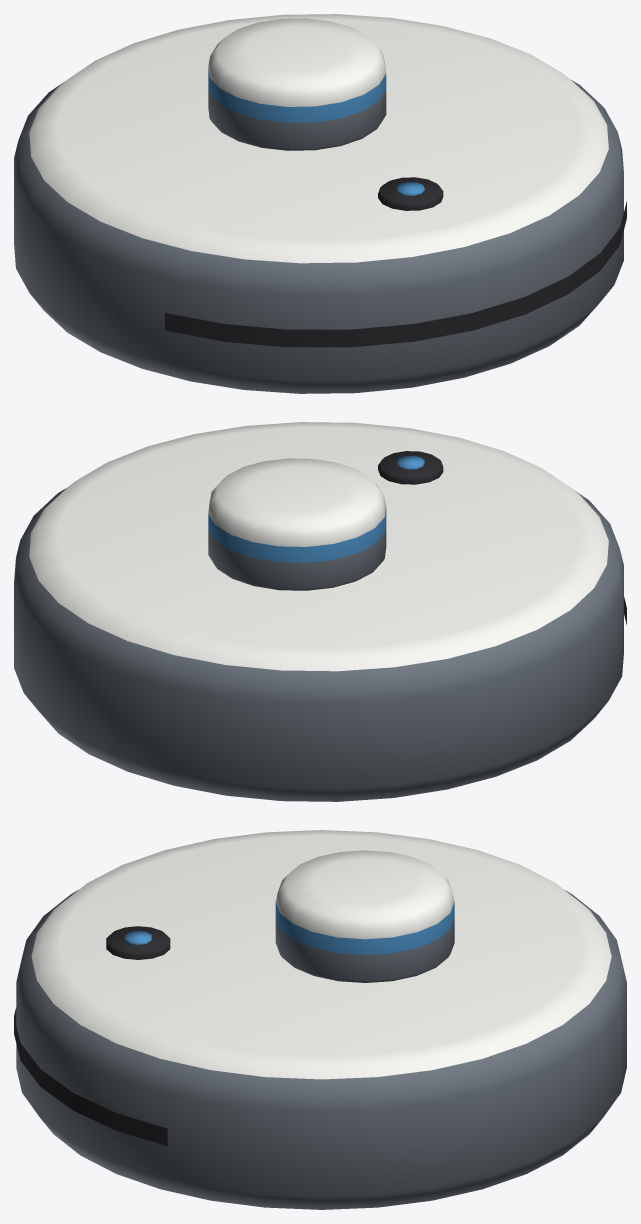
File: Prop_RobotVacuum.fbx
3 views of the same model, one above another, from view 1: azimuth 30°, elevation 25°; view 2: azimuth 150°, elevation 25°; view 3: azimuth 270°, elevation 25° (orthographic).
Visible parts, largest first — view 1: Prop_RobotVacuum; view 2: Prop_RobotVacuum; view 3: Prop_RobotVacuum.
Boxes of the visible parts, box(x1,y1,x2,y2) form: Prop_RobotVacuum: box(14, 14, 626, 393); Prop_RobotVacuum: box(14, 422, 626, 801); Prop_RobotVacuum: box(14, 830, 626, 1209).
Size of the model in its own units: 1.4 by 0.538 by 1.4.
